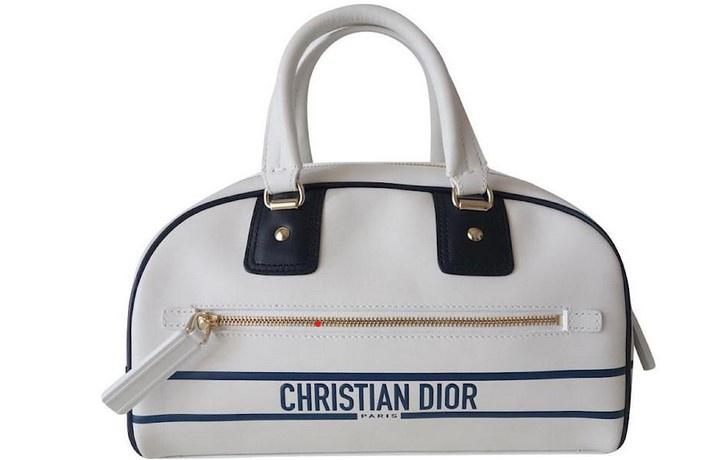DIOR: (266, 362, 484, 422)
